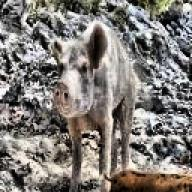boar: (50, 18, 138, 192), (102, 166, 192, 192)
